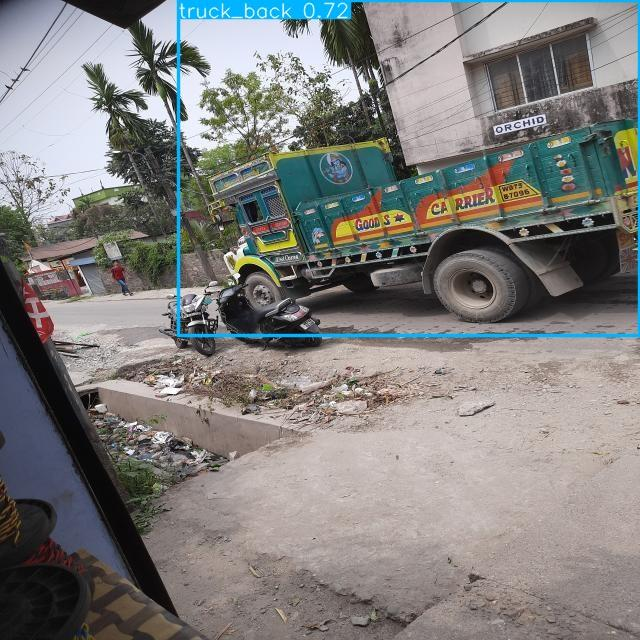truck_back: (203, 110, 639, 329)
two_wheeler_back: (213, 276, 326, 352)
two_wheeler_front: (157, 280, 221, 358)
